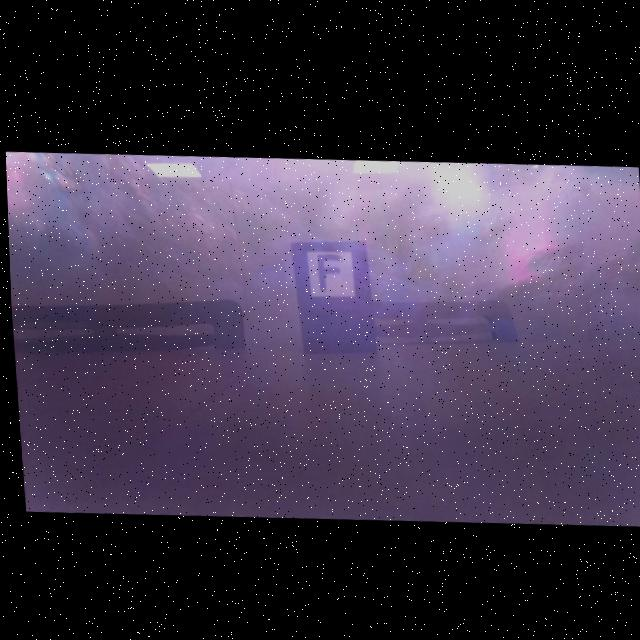F: (315, 250, 339, 288)
